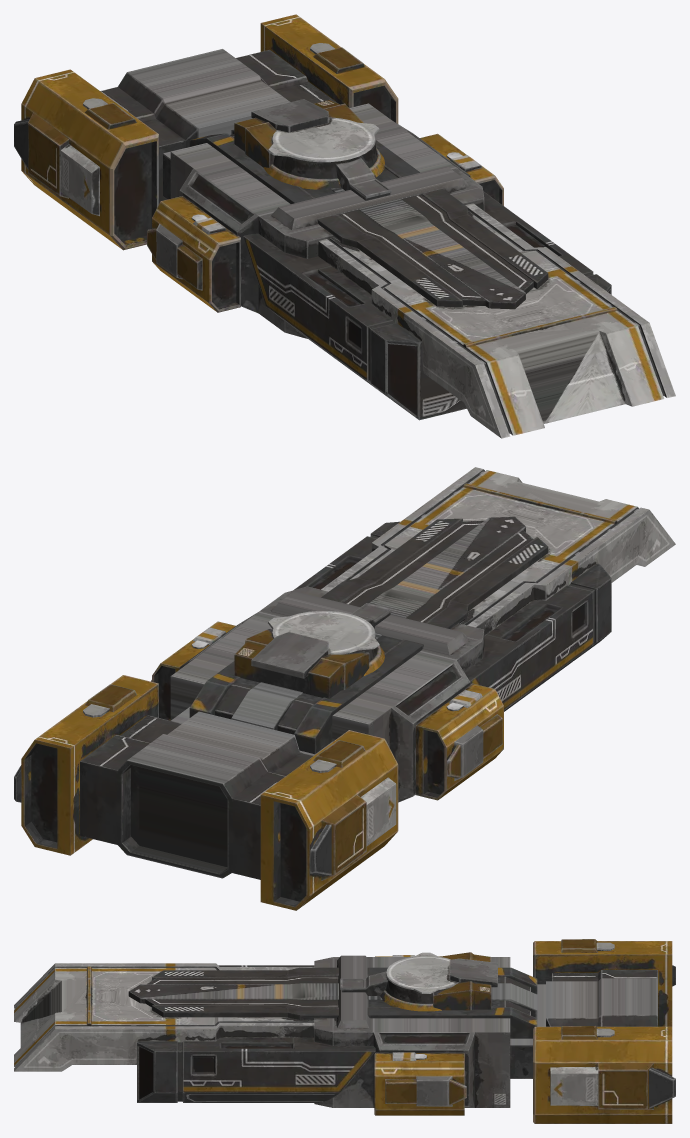
The model's file is quaternius-spaceships-imperial.glb.
The picture shows the model from 3 angles, top to bottom: view 1: azimuth 30°, elevation 25°; view 2: azimuth 150°, elevation 25°; view 3: azimuth 270°, elevation 25°; orthographic projection. The views are drawn at different scales.
Visible parts, largest first — view 1: Imperial; view 2: Imperial; view 3: Imperial.
Boxes of the visible parts, bbox=[...] form: Imperial: bbox=[14, 14, 675, 438]; Imperial: bbox=[14, 467, 675, 910]; Imperial: bbox=[14, 939, 675, 1123].
Bounding box in the file's own units: 7.73 × 3.3 × 18.55.
1 material, 1 textured.
